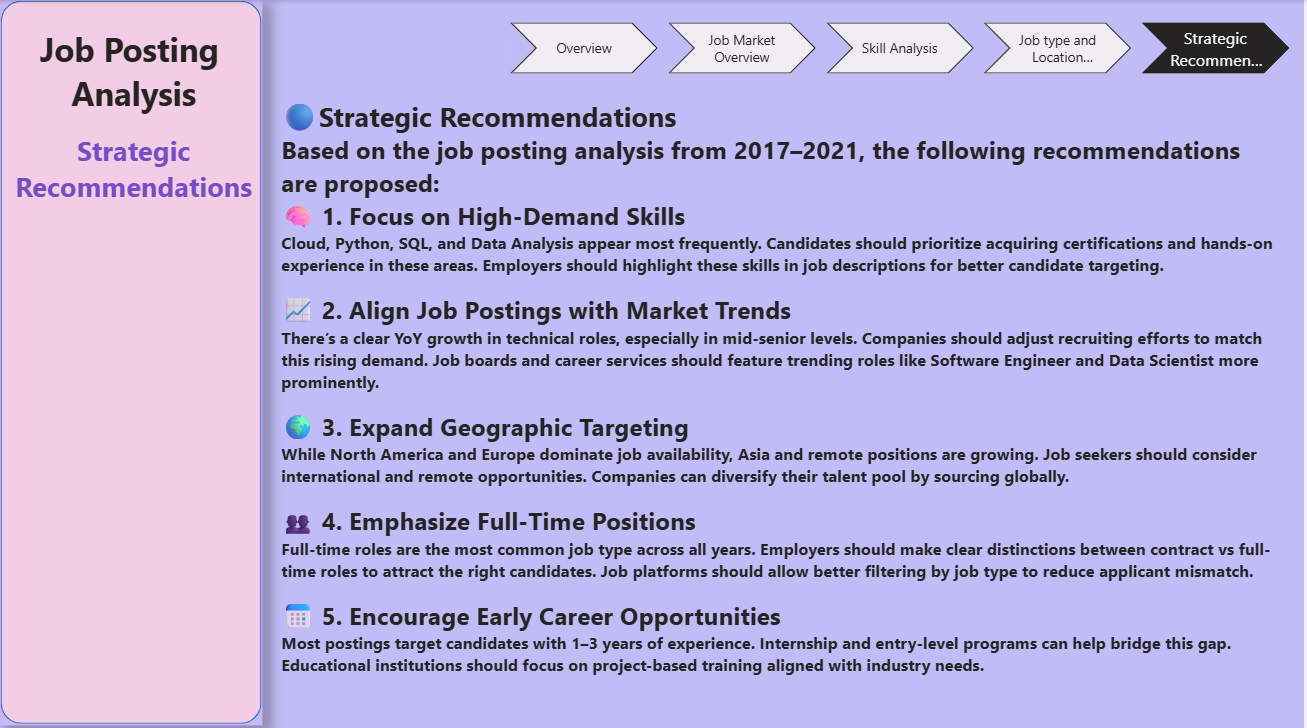

This screenshot's page, from the dashboard's own definition file:
{"tool":"powerbi","page":{"name":"Strategic Recommendations","canvas":[1280,720],"ordinal":4},"visuals":[{"type":"shape","box":[0,0,257.7,711.7],"z":0},{"type":"textbox","box":[4.9,22.1,252.8,207.4],"z":1000},{"type":"textbox","box":[271.2,90.8,992.6,593.9],"z":2000},{"type":"pageNavigator","box":[500.6,22.1,768.1,50.3],"z":3000}]}

Visuals, with their boxes in screenshot pixels (x1, y1, x2, y2), scaled from the page's 1280x720 canvas onto the 1307x728 screenshot:
shape: (left=0, top=0, right=263, bottom=720)
textbox: (left=5, top=22, right=263, bottom=232)
textbox: (left=277, top=92, right=1290, bottom=692)
pageNavigator: (left=511, top=22, right=1295, bottom=73)
